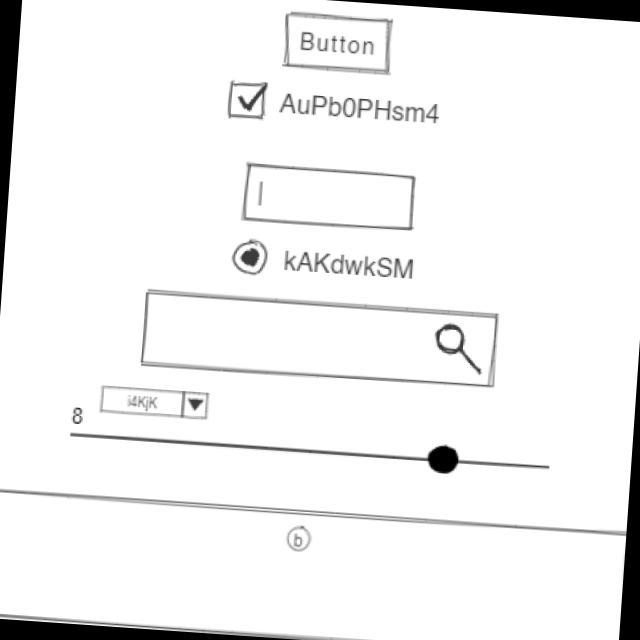button: (281, 9, 397, 79)
checkbox: (225, 78, 443, 133)
container: (1, 483, 627, 640)
icon-button: (284, 523, 315, 555)
input: (239, 160, 421, 236)
radio: (231, 237, 418, 288)
search: (137, 287, 502, 393)
select: (98, 383, 212, 423)
slider: (90, 419, 552, 484)
